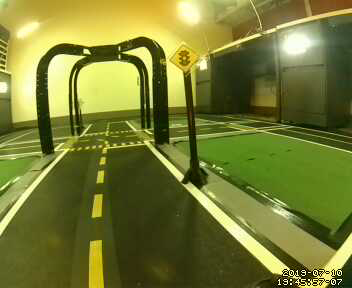Traffic light sign: (168, 41, 200, 73)
